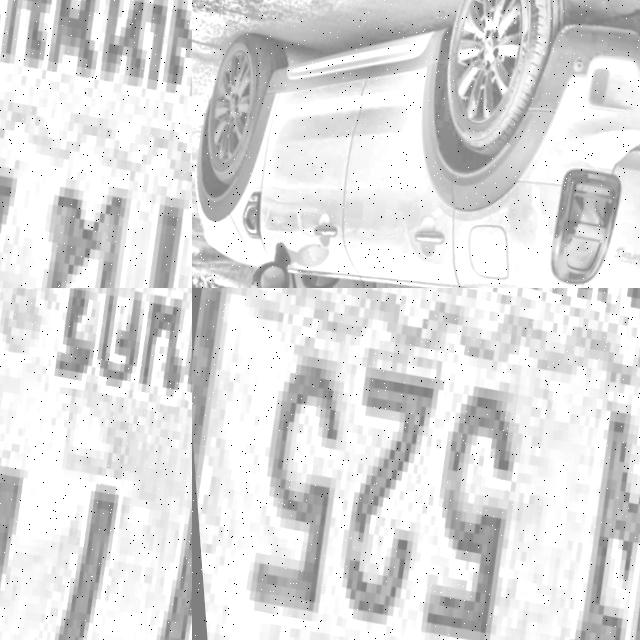license-plate: (192, 288, 640, 640), (0, 288, 192, 640), (0, 0, 192, 288)
